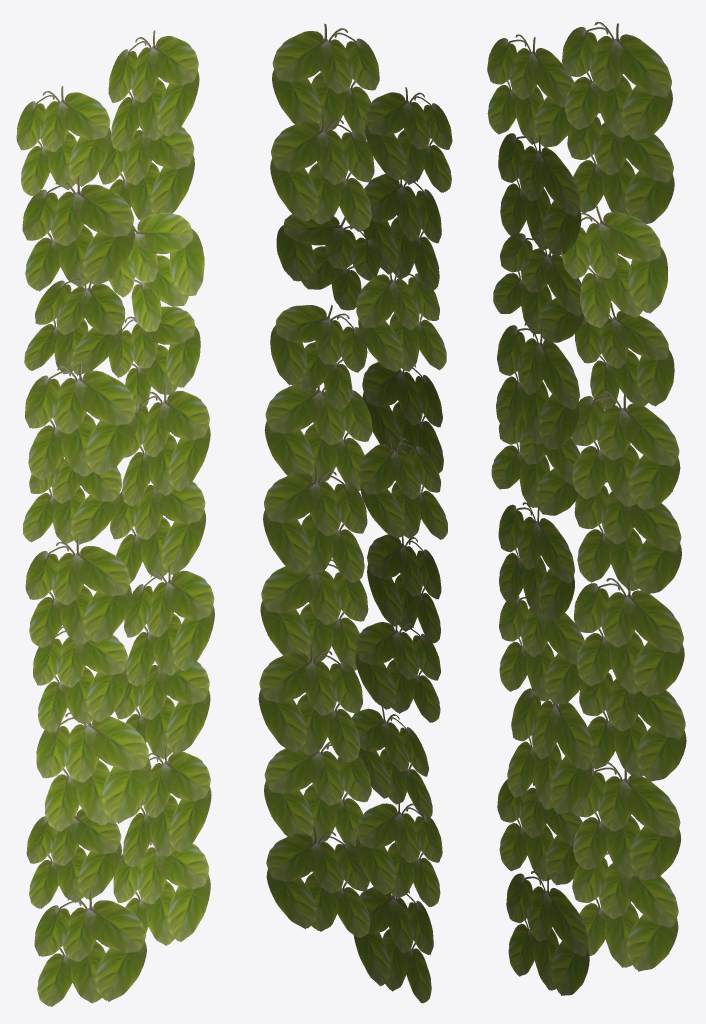
Rendered from hojas.fbx.
3 views of the same model, side by side, from view 1: azimuth 30°, elevation 25°; view 2: azimuth 150°, elevation 25°; view 3: azimuth 330°, elevation 25° (orthographic). The views are drawn at different scales.
Visible parts, largest first — view 1: Plane.007, Plane.015, Plane.011, Plane.019, Plane.003, Plane.017, Plane.005, Plane.016, Plane.001, Plane.013, Plane.004, Plane.012 (+8 smaller); view 2: Plane.002, Plane.006, Plane.018, Plane.017, Plane.010, Plane.005, Plane.009, Plane.001, Plane.014, Plane.012, Plane.008, Plane (+8 smaller); view 3: Plane.017, Plane.005, Plane.001, Plane.009, Plane.013, Plane.010, Plane.002, Plane.006, Plane.007, Plane.018, Plane.015, Plane.011 (+8 smaller).
Part boxes in pixels (x1,y1,x2,y2): Plane.007: (36, 712, 151, 831); Plane.015: (24, 362, 137, 480); Plane.011: (34, 892, 146, 1006); Plane.019: (22, 176, 134, 291); Plane.003: (25, 538, 131, 648); Plane.017: (108, 30, 199, 151); Plane.005: (124, 565, 214, 686); Plane.016: (16, 86, 111, 196); Plane.001: (122, 385, 210, 506); Plane.013: (107, 212, 204, 331); Plane.004: (33, 626, 128, 731); Plane.012: (24, 274, 125, 375); Plane.002: (263, 465, 367, 583); Plane.006: (258, 645, 362, 762); Plane.018: (270, 114, 374, 231); Plane.017: (272, 23, 379, 139); Plane.010: (266, 827, 370, 938); Plane.005: (260, 559, 368, 670); Plane.009: (264, 742, 371, 846); Plane.001: (264, 384, 372, 490); Plane.014: (270, 305, 367, 408); Plane.012: (356, 265, 446, 372); Plane.008: (356, 798, 442, 907); Plane: (358, 436, 447, 539); Plane.017: (562, 21, 672, 140); Plane.005: (574, 578, 684, 696); Plane.001: (571, 391, 680, 509); Plane.009: (573, 762, 680, 880); Plane.013: (561, 206, 667, 327); Plane.010: (572, 852, 678, 971); Plane.002: (574, 480, 681, 593); Plane.006: (579, 667, 686, 781); Plane.007: (507, 688, 593, 814); Plane.018: (567, 111, 674, 223); Plane.015: (496, 322, 579, 449); Plane.011: (506, 871, 589, 995).
Bounding box in the file's own units: 381 × 1715 × 98.5.
